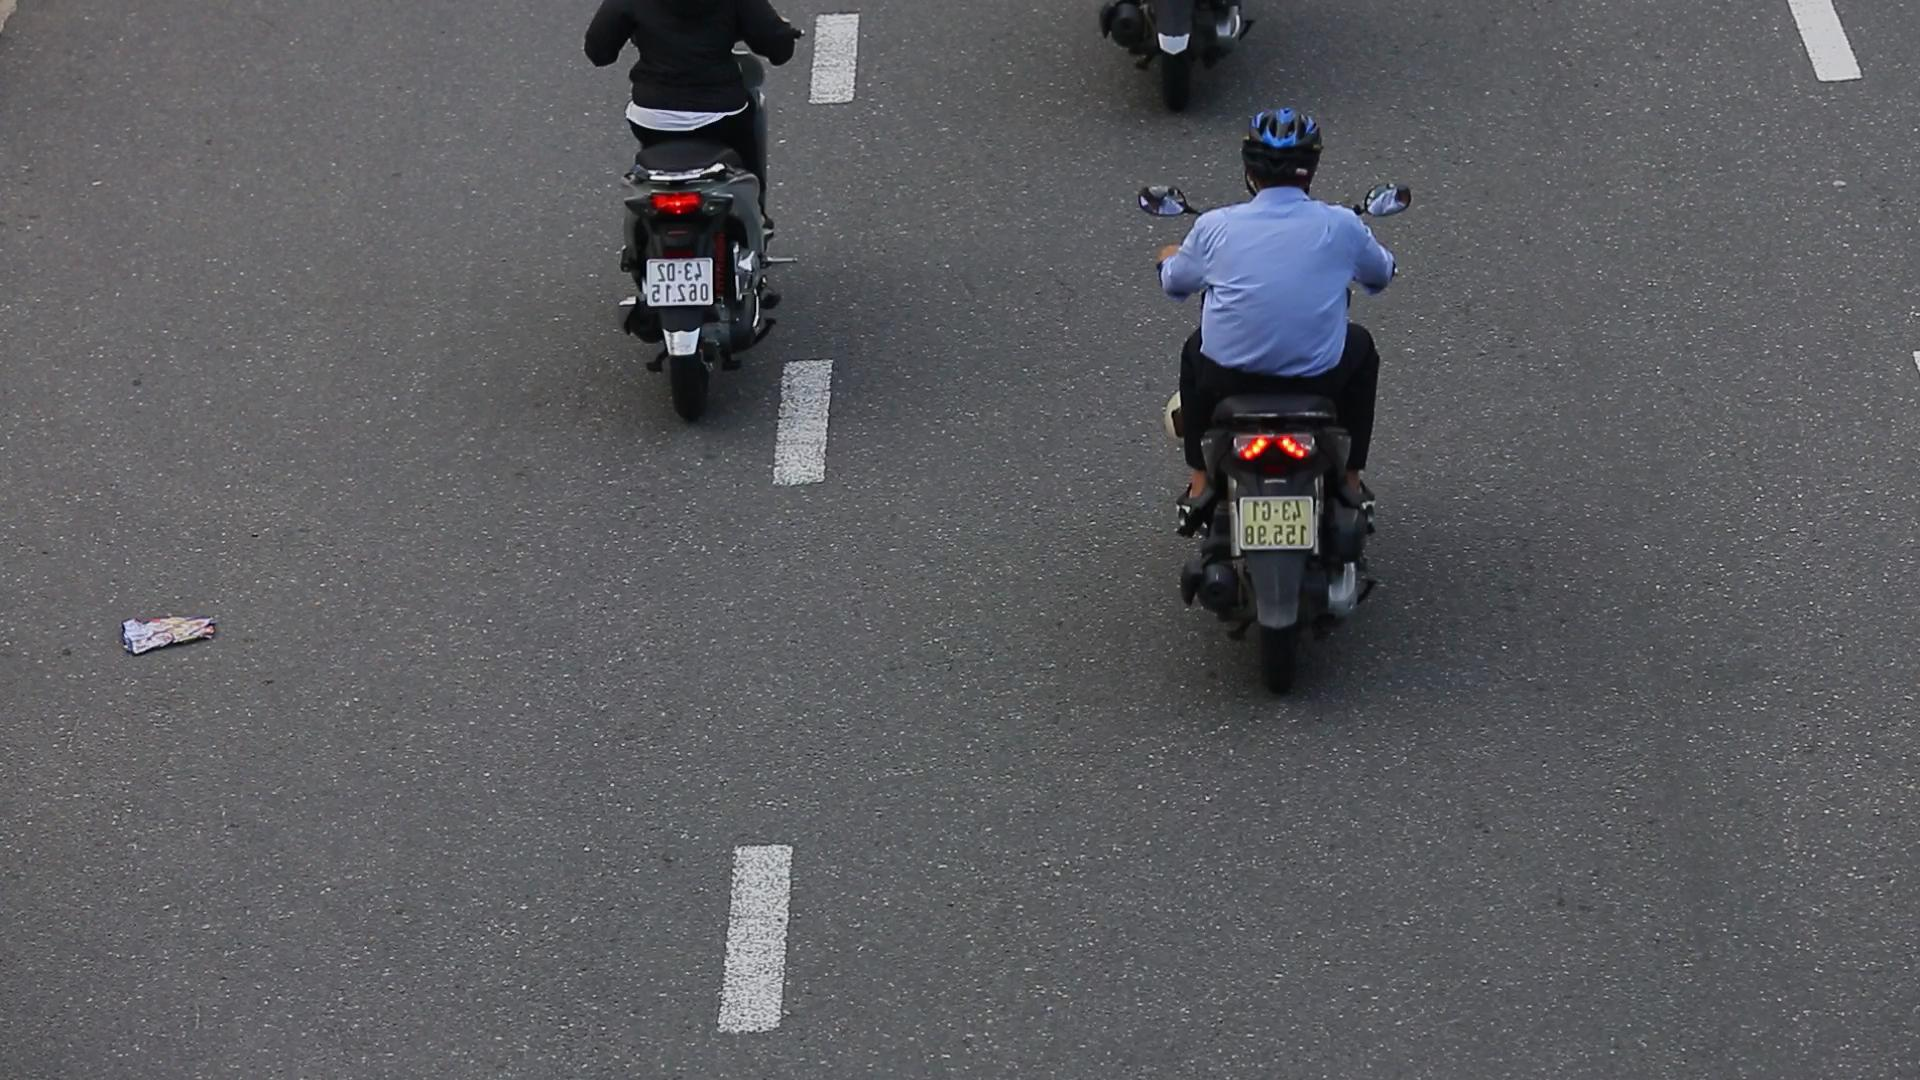motobike: (1109, 79, 1422, 708)
